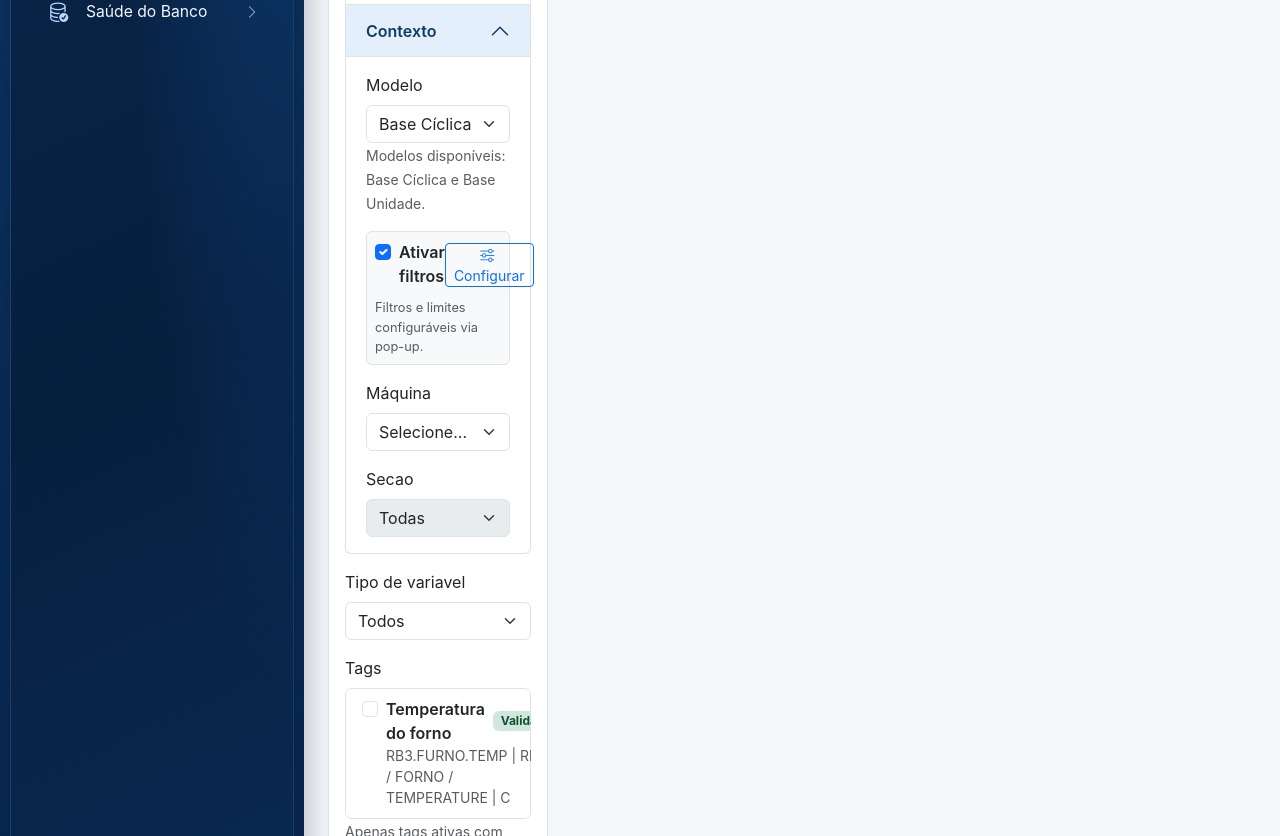
Visualização de Dados - Correções dos 8 Bugs › Bug 1 & Bug 5: Invalidação de parâmetros e persistência de título anterior › cartão Período exibe o intervalo efetivo e diferencia do solicitado quando limitado pelo backend
(page scrolled)
Select "RB1 - RB1" in the dropdown with test id "equipment-select". click: (438,432)
box: [366,413,510,451]
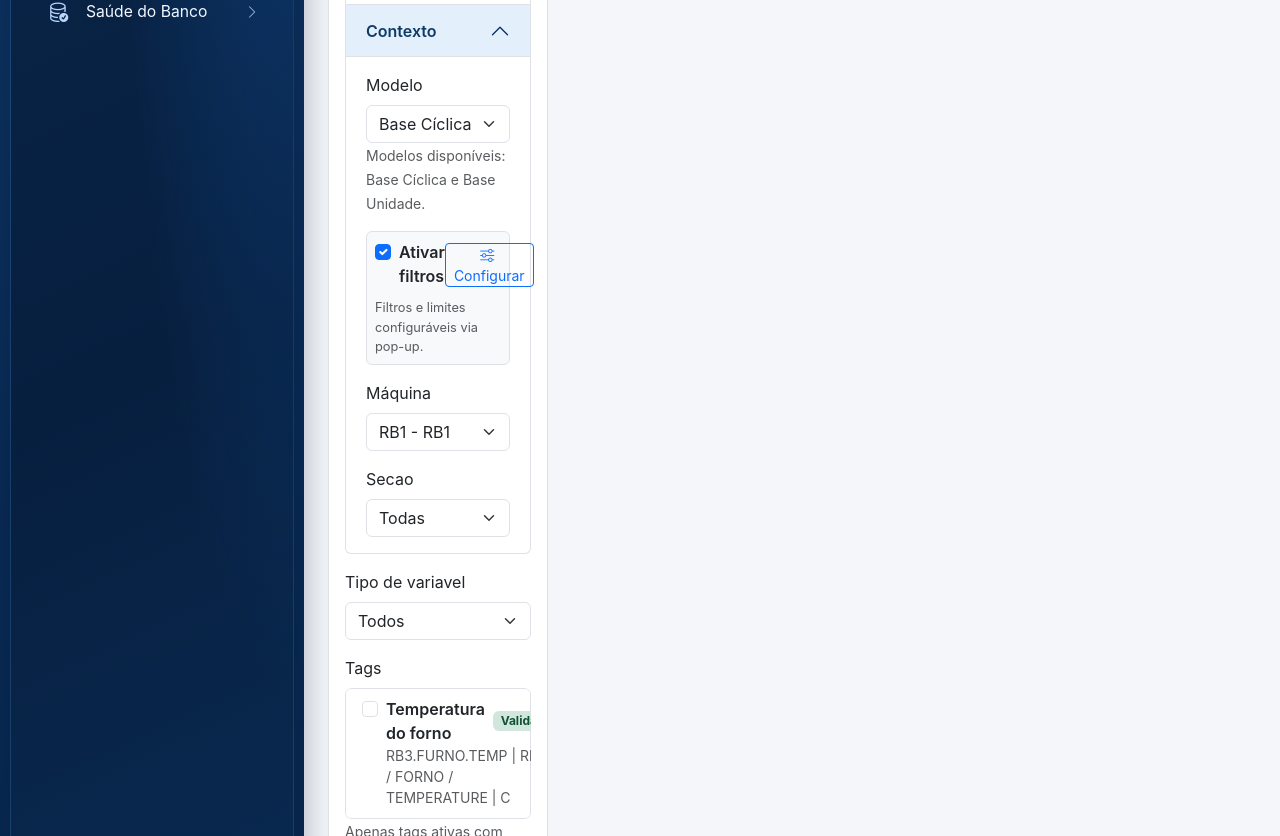
Click the button with test id "tag-option-1". click: (438,754)
box: [345,688,531,819]
(page scrolled)
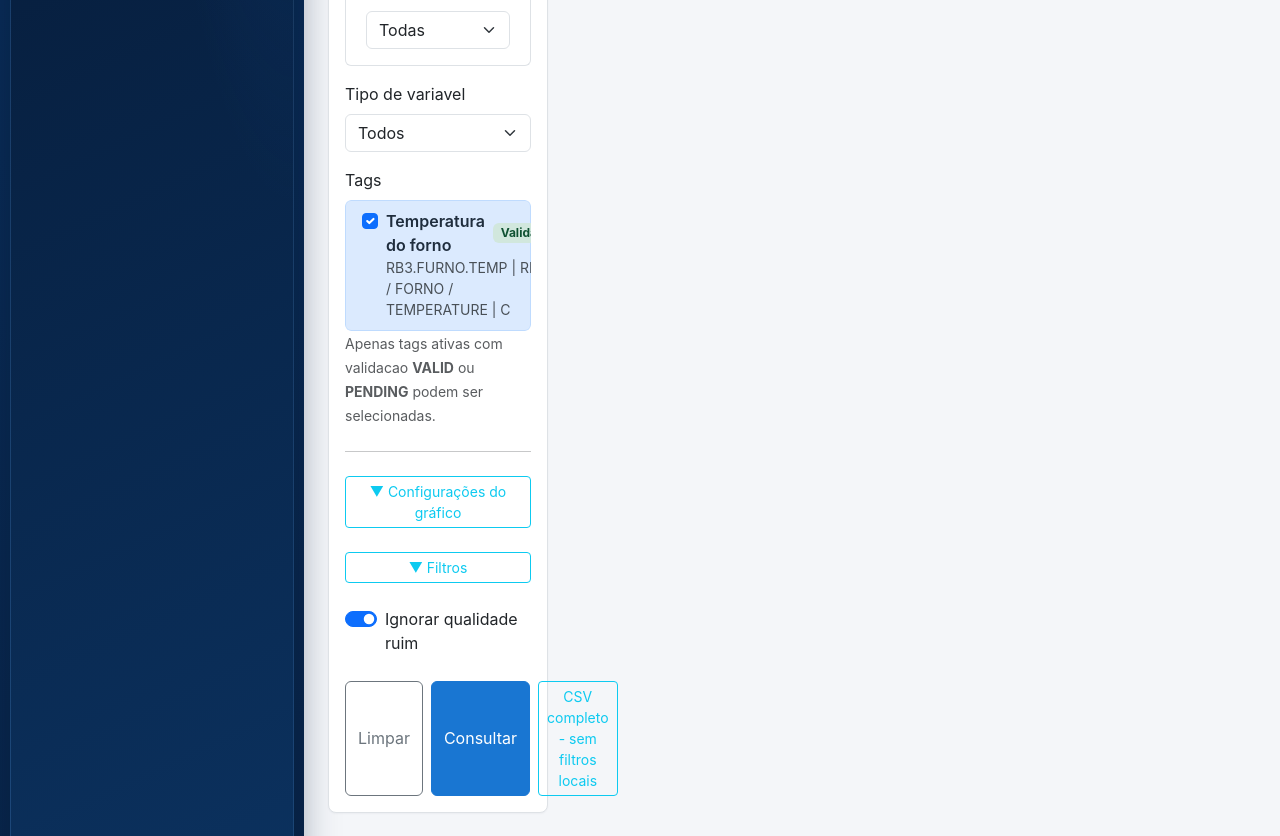
Click the button with test id "filters-submit". click: (480,738)
box: [431,681,530,796]
(page scrolled)
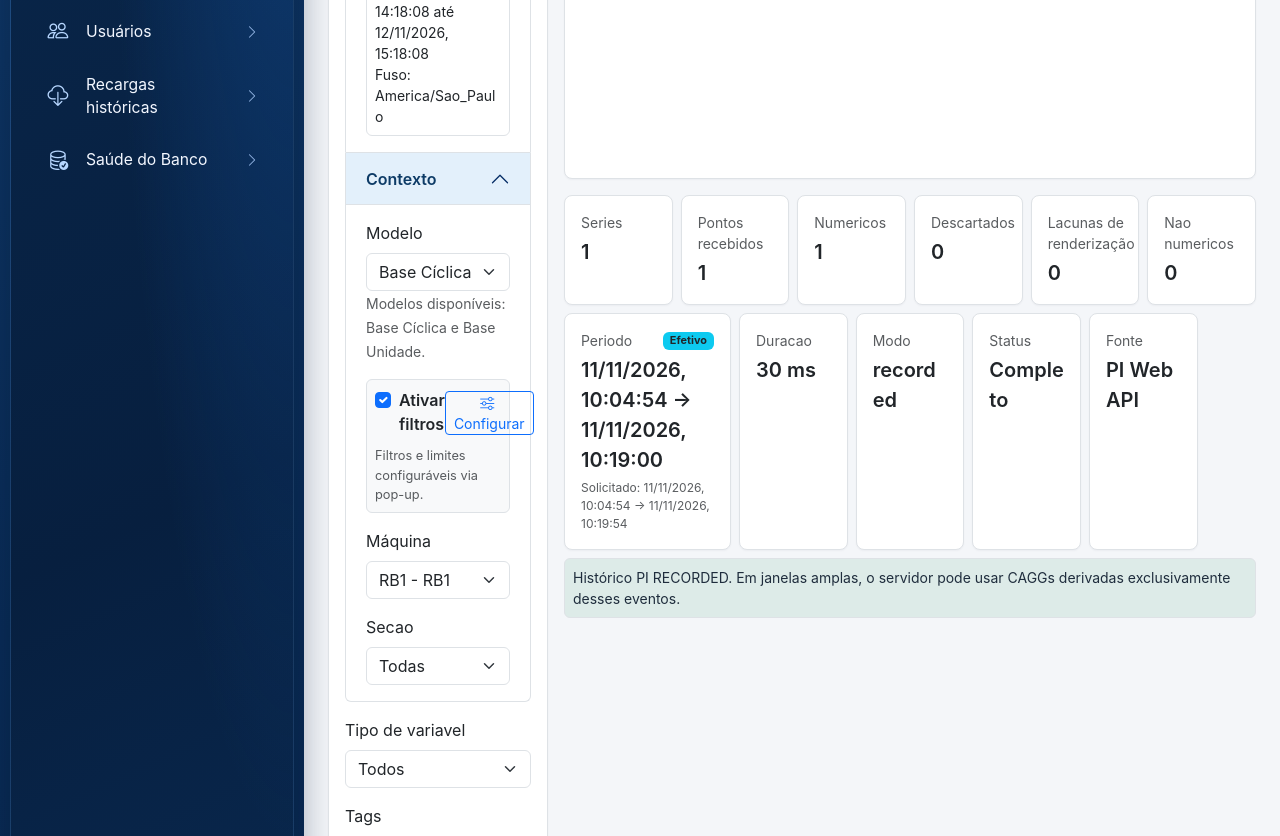
Expected: the element with test id "metric-period" shows "10:19:00", [581,358,692,472]
Expected: the element with test id "metric-period" shows "Efetivo", [670,334,707,348]
Expected: the element with test id "metric-period" shows "Solicitado", [581,480,710,531]
